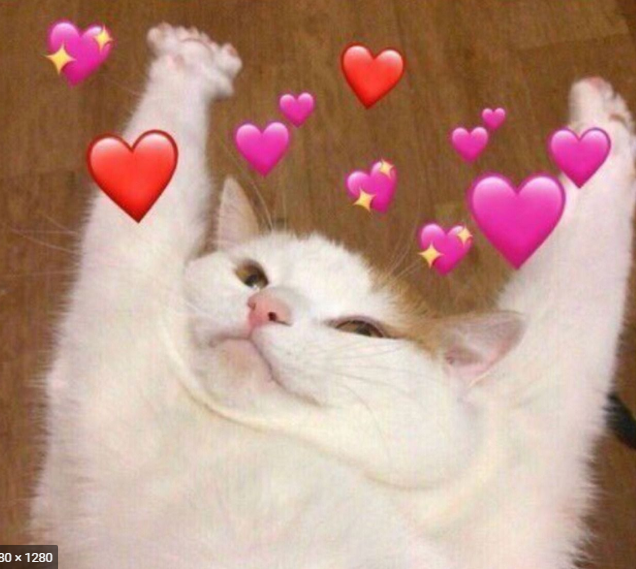cat: (35, 19, 633, 564)
